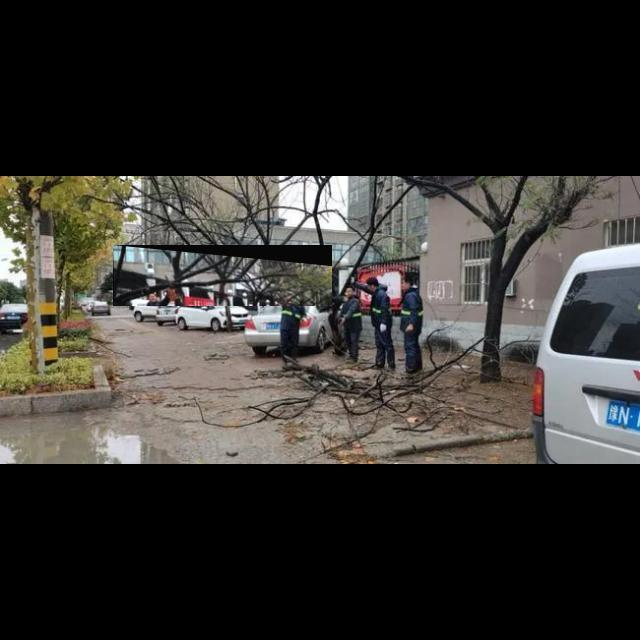fallen_tree: (113, 245, 333, 307)
